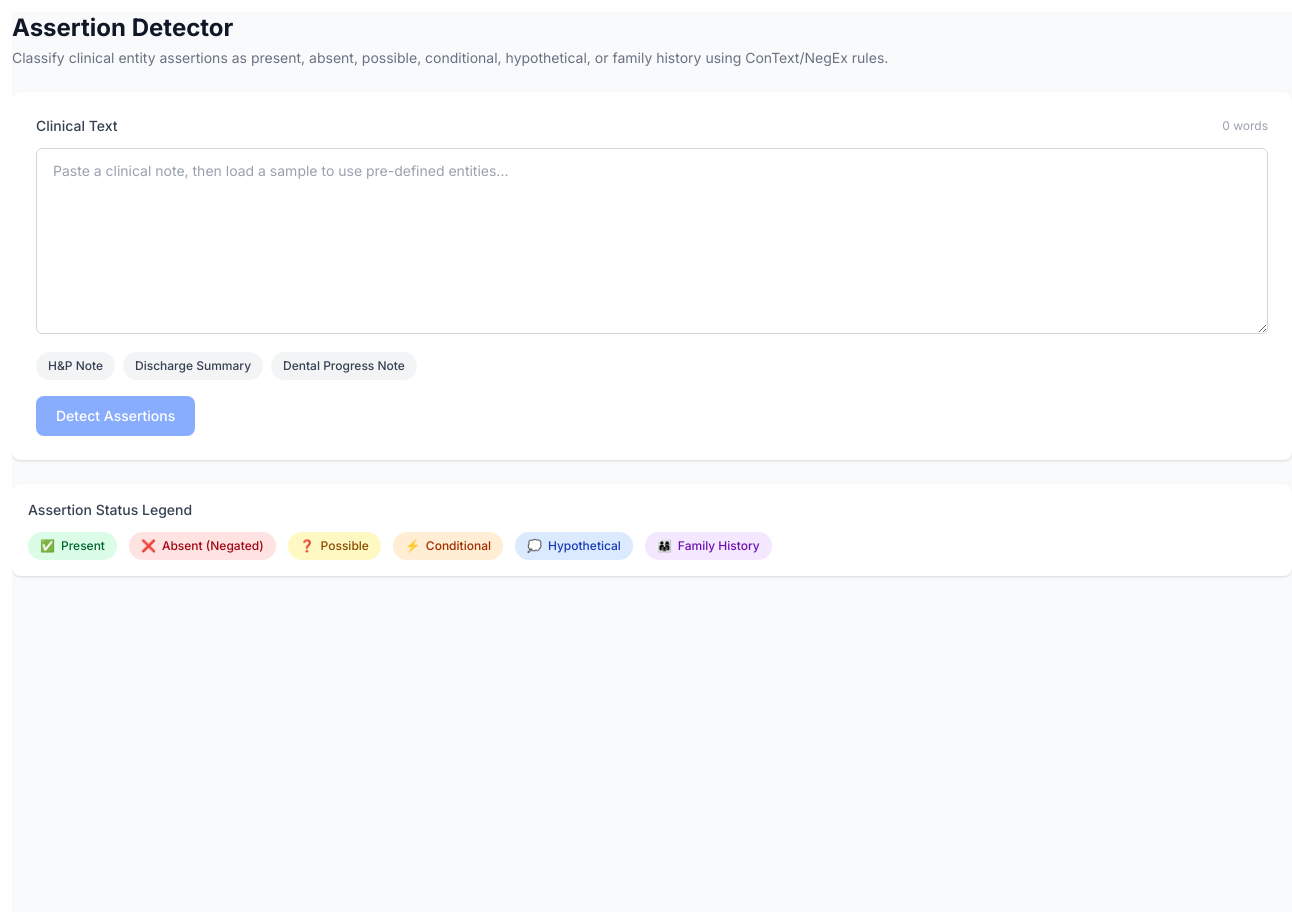
Test: AssertionDetector › API integration › displays results count header
Click the button "Dental Progress Note". click: (344, 366)
box: x1=271 y1=352 x2=417 y2=380
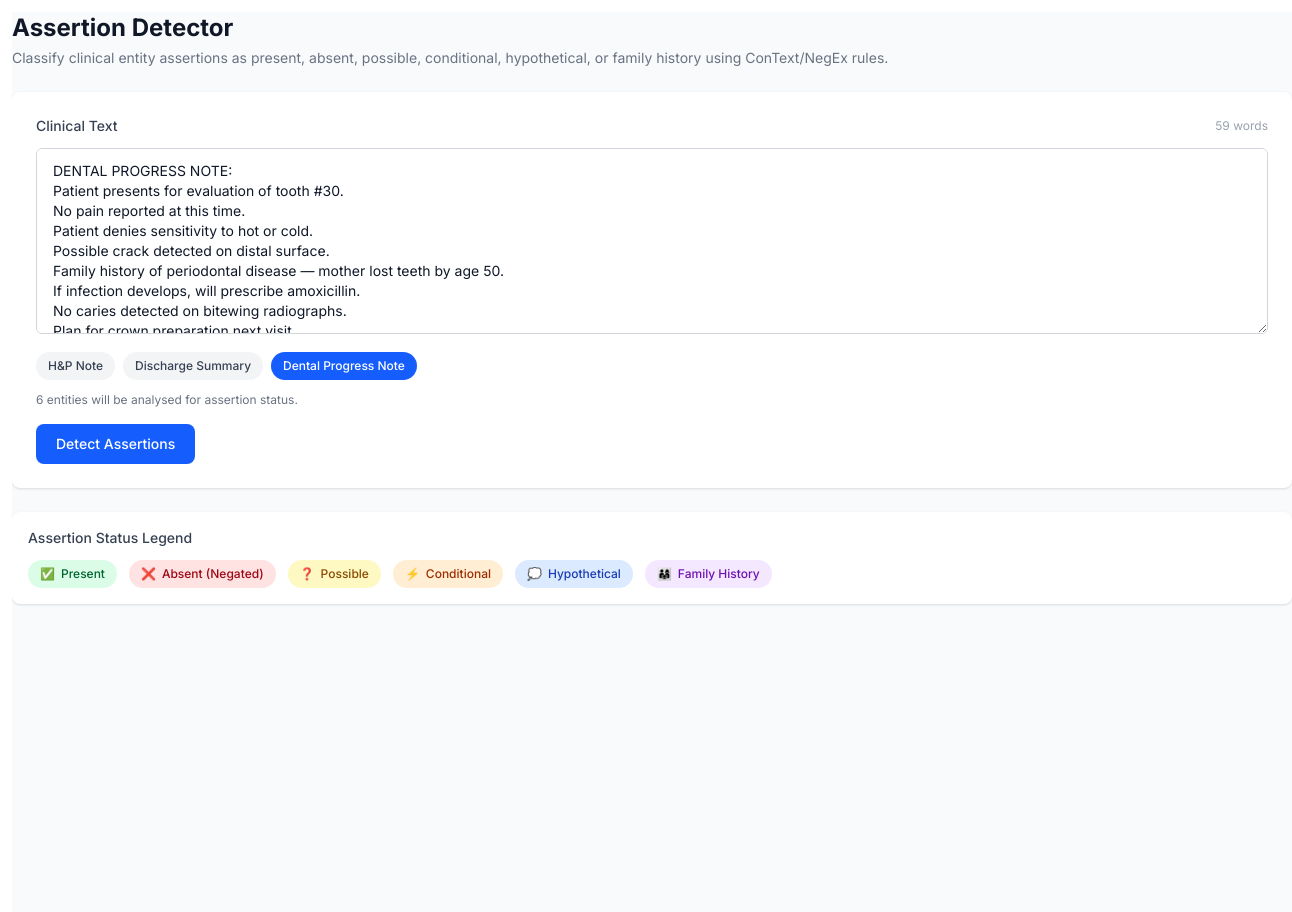
Click the button "Detect Assertions". click: (116, 444)
box: x1=36 y1=424 x2=195 y2=464
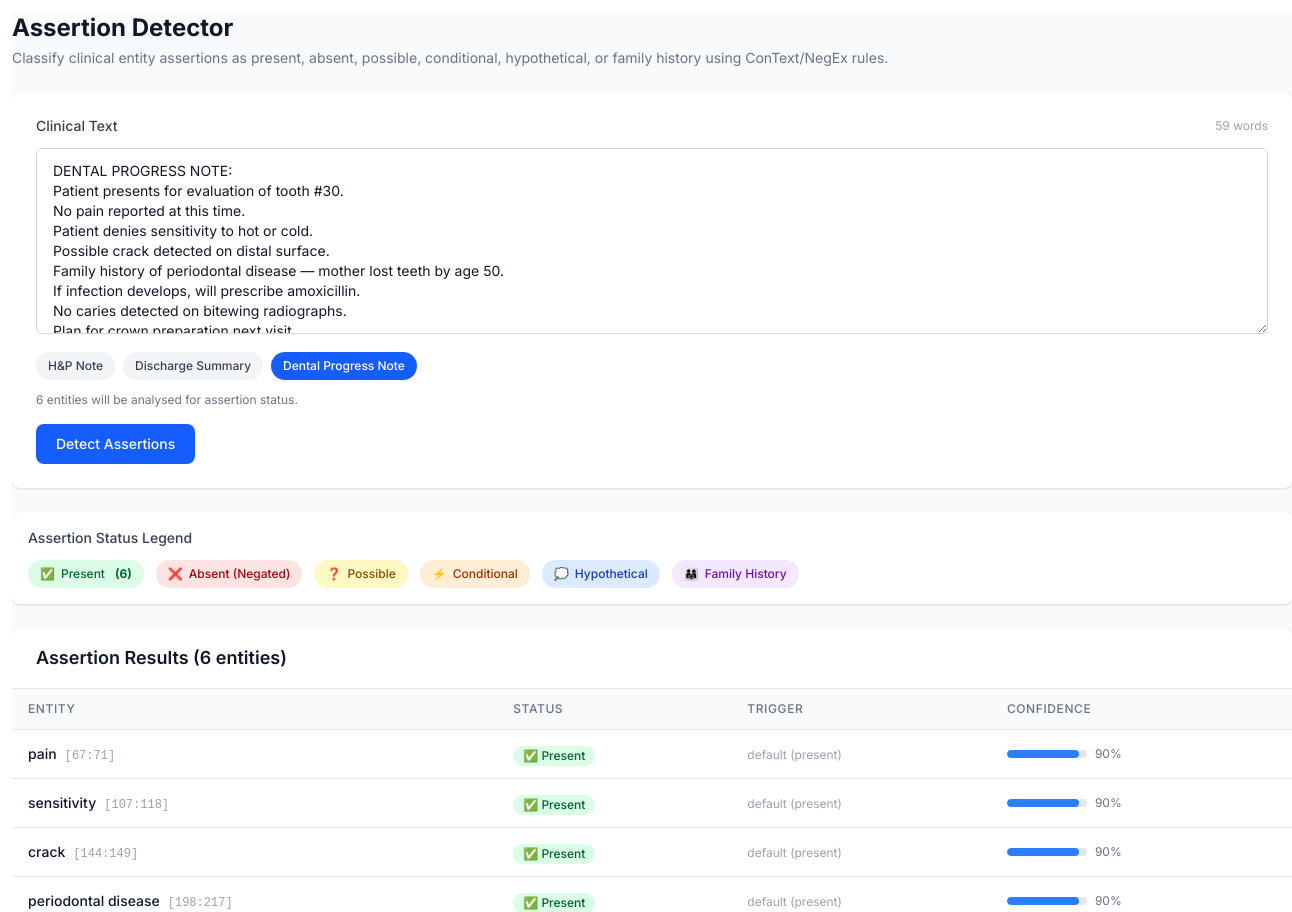
Now the heading "Assertion Results (6 entities)" is shown, box x1=36 y1=647 x2=287 y2=668
